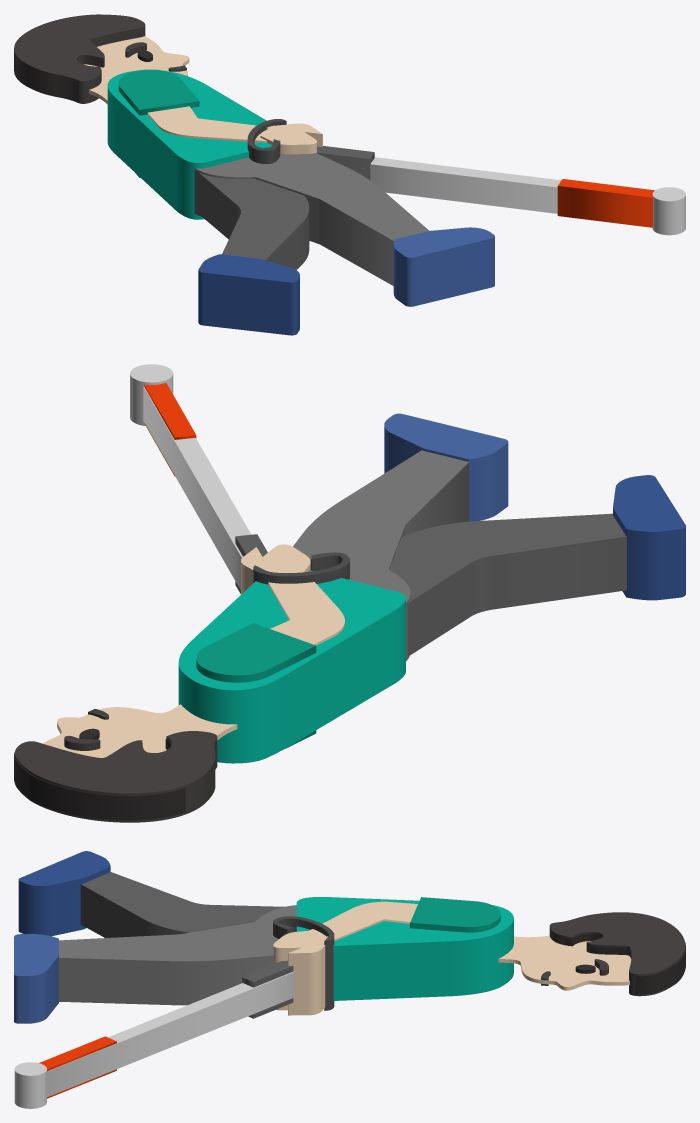
File: emoji_u1f468_1f3fb_200d_1f9af_200d_27a1.glb
3 views of the same model, one above another, from view 1: azimuth 30°, elevation 25°; view 2: azimuth 150°, elevation 25°; view 3: azimuth 270°, elevation 25° (orthographic). The views are drawn at different scales.
Visible parts, largest first — view 1: emoji_u1f468_1f3fb_200d_1f9af_200d_27a1; view 2: emoji_u1f468_1f3fb_200d_1f9af_200d_27a1; view 3: emoji_u1f468_1f3fb_200d_1f9af_200d_27a1.
Boxes of the visible parts, x1=… form: emoji_u1f468_1f3fb_200d_1f9af_200d_27a1: x1=14, y1=14, x2=685, y2=335; emoji_u1f468_1f3fb_200d_1f9af_200d_27a1: x1=14, y1=364, x2=685, y2=822; emoji_u1f468_1f3fb_200d_1f9af_200d_27a1: x1=14, y1=851, x2=685, y2=1108.
Bounding box in the file's own units: 0.0252 × 0.0038 × 0.0332.
